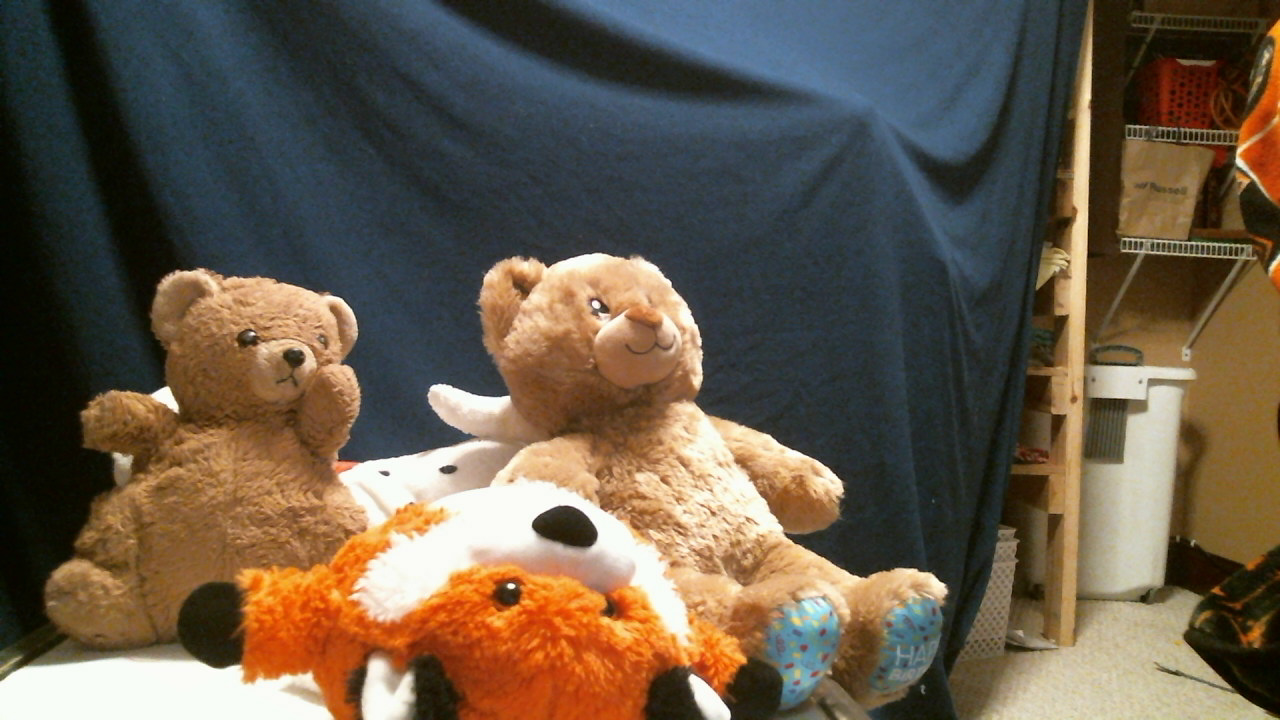Little_Mister_Bear: (213, 317, 346, 422)
